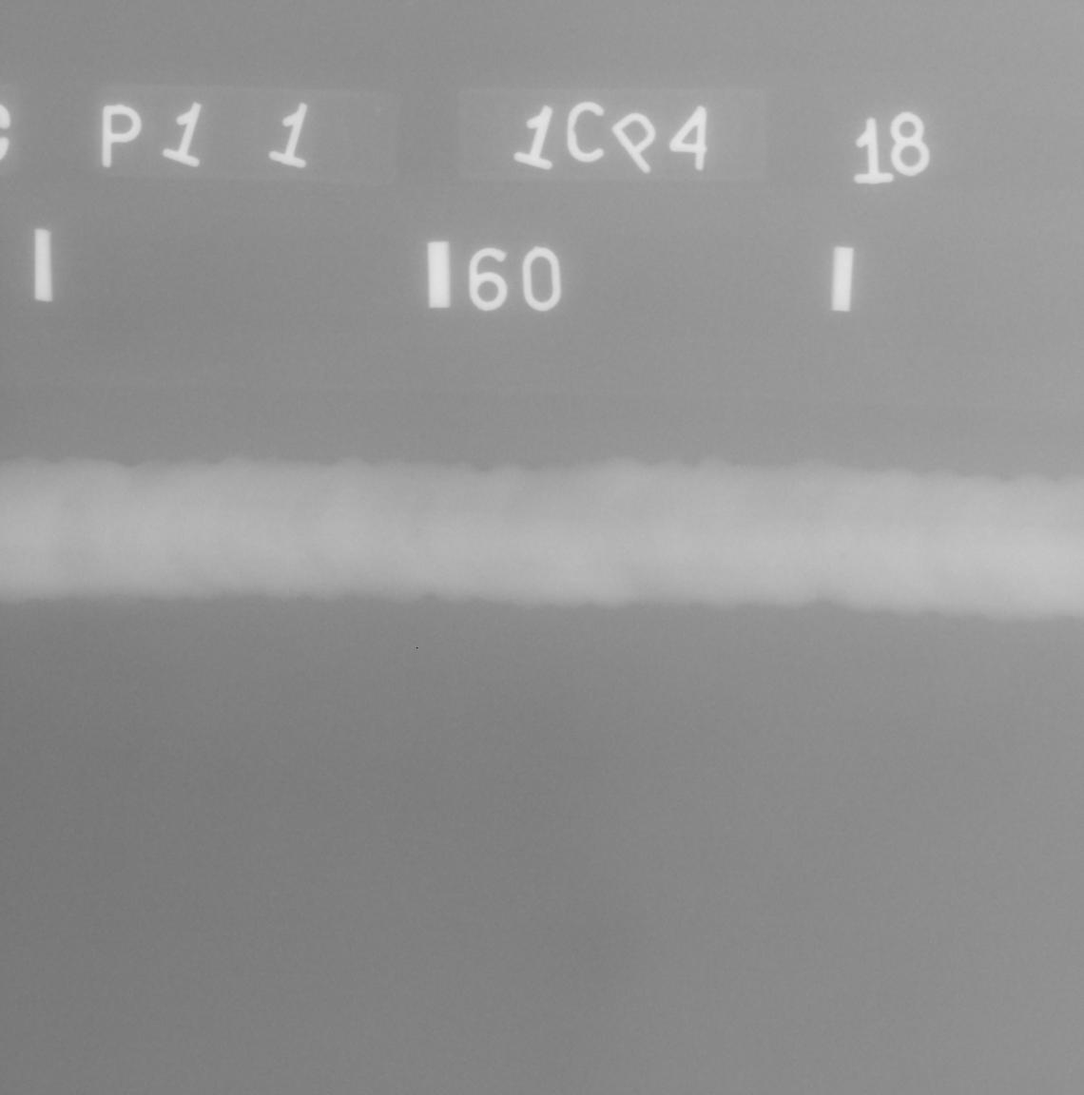Pore/Porosity: (838, 554, 846, 560), (288, 588, 294, 594), (299, 559, 306, 563)
